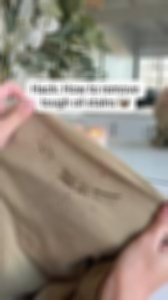oil: (59, 166, 87, 196), (89, 182, 123, 205), (36, 134, 58, 164)
